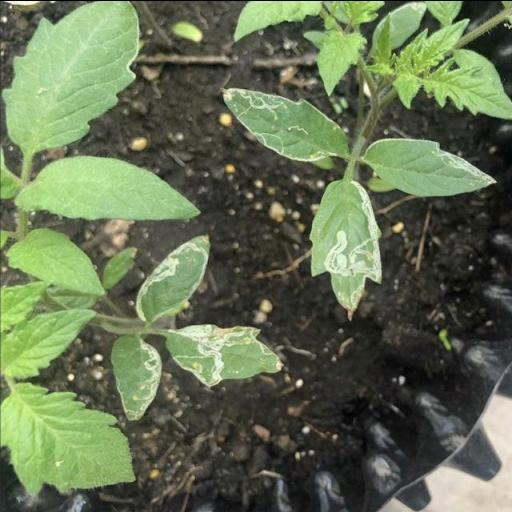disease_tomato: (310, 176, 384, 315), (218, 86, 346, 162), (126, 231, 218, 327), (162, 321, 284, 388), (361, 136, 497, 196), (107, 334, 165, 420)
